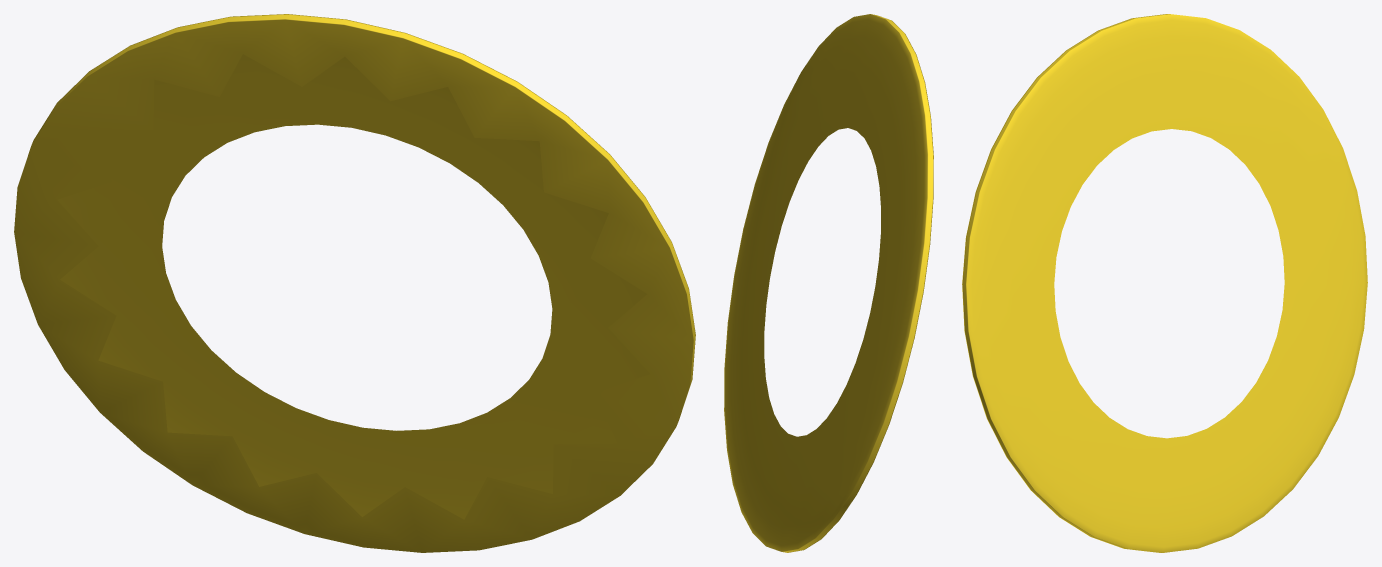
The model's file is clock_effect2_0~20.FBX.
3 renders of one model, left to right at view 1: azimuth 30°, elevation 25°; view 2: azimuth 150°, elevation 25°; view 3: azimuth 270°, elevation 25°, orthographic. The views are drawn at different scales.
Visible parts, largest first — view 1: Object059; view 2: Object059; view 3: Object059.
Part boxes in pixels (bbox=[...]): Object059: bbox=[14, 14, 695, 552]; Object059: bbox=[724, 14, 933, 552]; Object059: bbox=[962, 14, 1367, 552].
Bounding box in the file's own units: 6.7 × 8.75 × 6.87.
